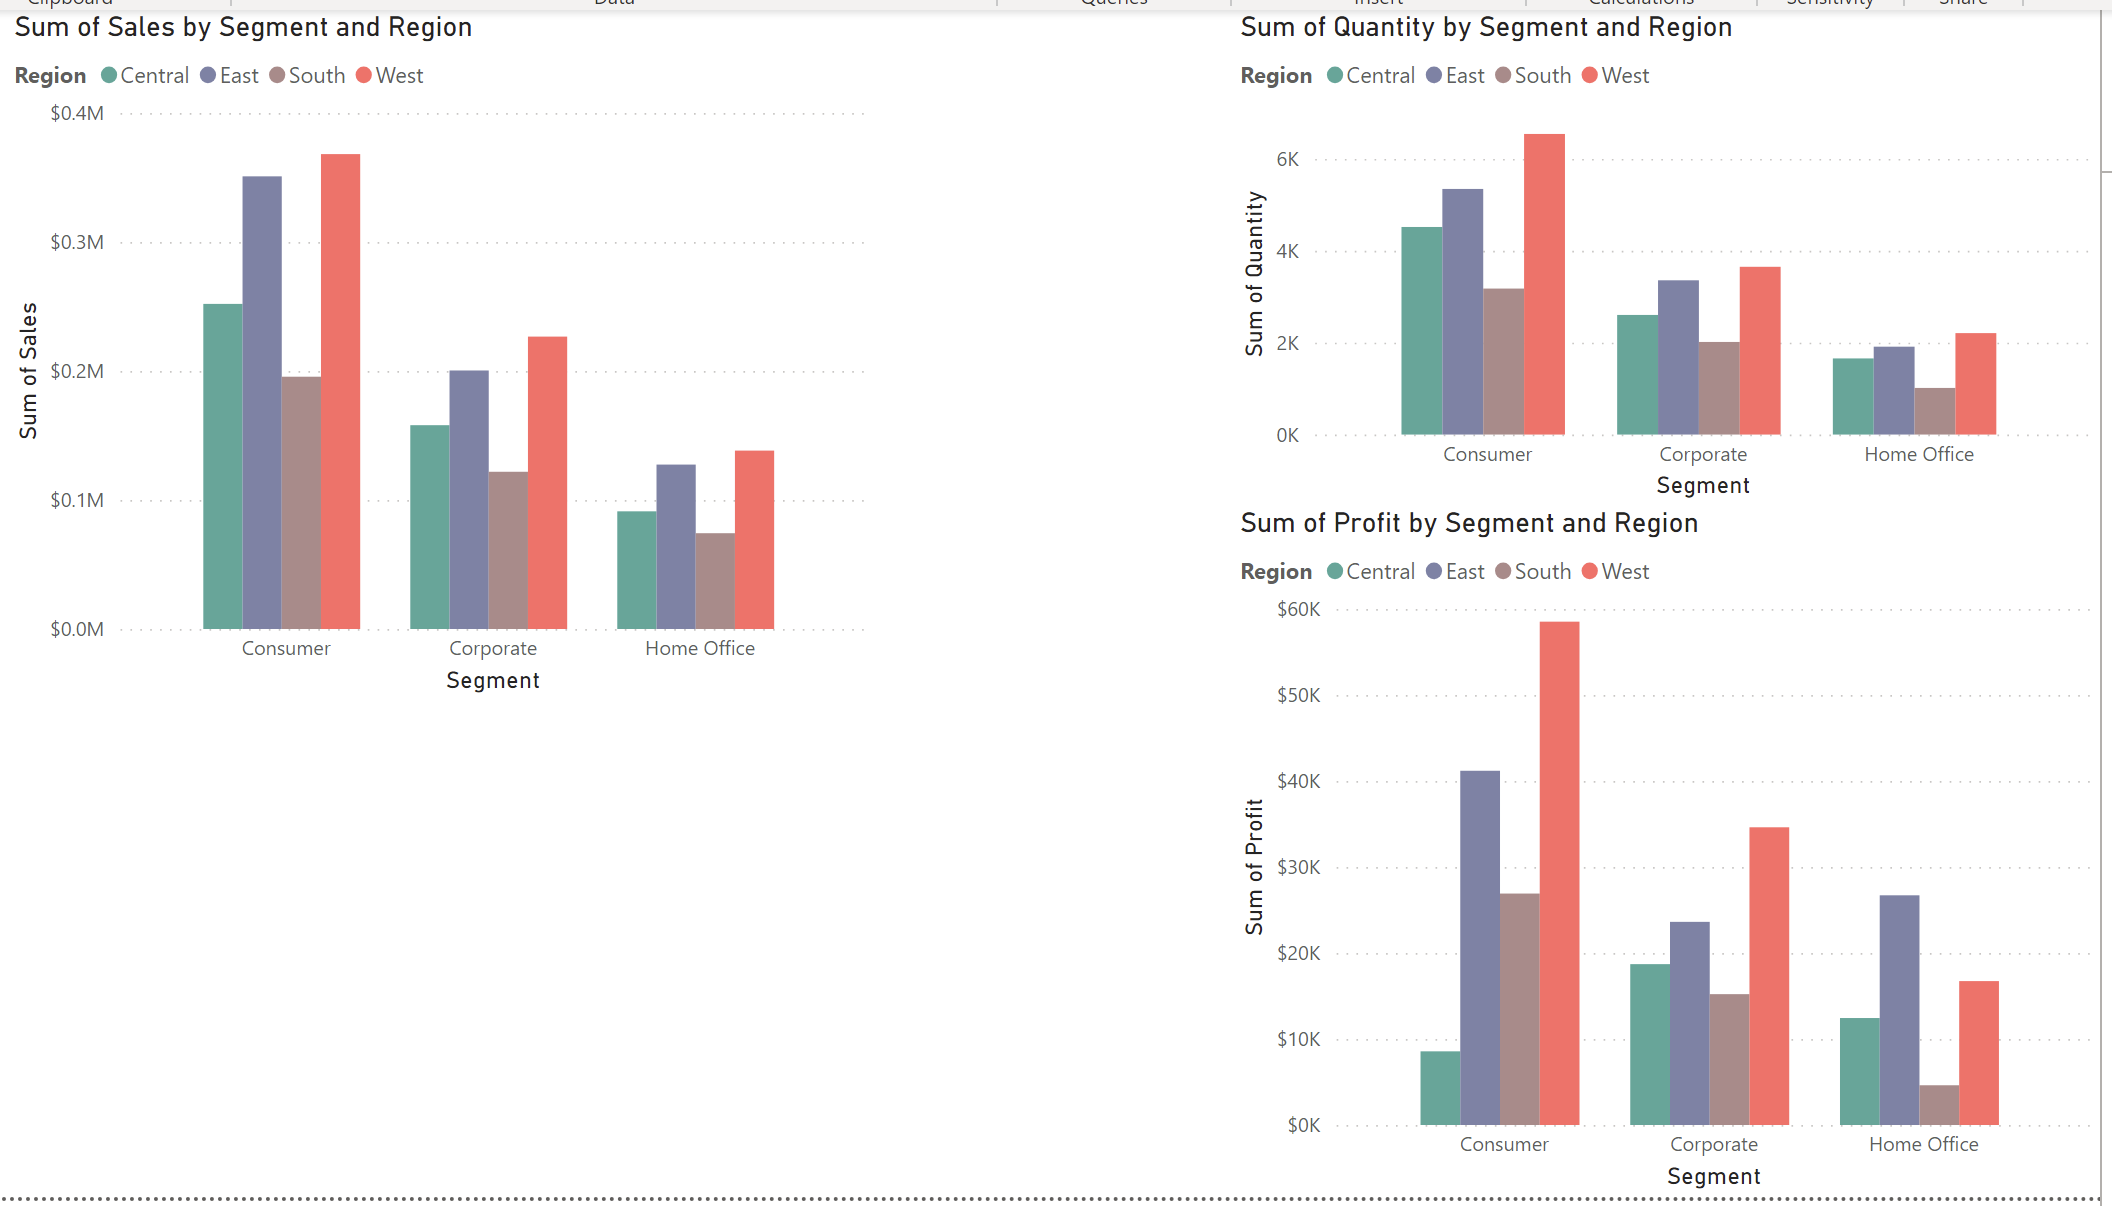

This screenshot's page, from the dashboard's own definition file:
{"tool":"powerbi","page":{"name":"location by segment and shipping","canvas":[1280,720],"ordinal":10},"visuals":[{"type":"clusteredColumnChart","fields":{"Category":["CustomerDim.Segment"],"Y":["Sum(SalesFact.Sales)"],"Series":["LocationDim.Region"]},"box":[10,0,526.7,418.9],"z":0},{"type":"clusteredColumnChart","fields":{"Category":["CustomerDim.Segment"],"Y":["Sum(SalesFact.Profit)"],"Series":["LocationDim.Region"]},"box":[753.3,301.1,526.7,418.9],"z":1000},{"type":"clusteredColumnChart","fields":{"Category":["CustomerDim.Segment"],"Y":["Sum(SalesFact.Quantity)"],"Series":["LocationDim.Region"]},"box":[753.3,0,526.7,301.1],"z":2000}]}

Visuals, with their boxes on the page's 1280x720 design canvas (x1, y1, x2, y2). These are canvas units, not pixel positions in the 2112x1206 screenshot, which may show the page scaled, cropped or inside an application window:
clusteredColumnChart - CustomerDim.Segment x Sum(SalesFact.Sales): [x1=10, y1=0, x2=537, y2=419]
clusteredColumnChart - CustomerDim.Segment x Sum(SalesFact.Profit): [x1=753, y1=301, x2=1280, y2=720]
clusteredColumnChart - CustomerDim.Segment x Sum(SalesFact.Quantity): [x1=753, y1=0, x2=1280, y2=301]
